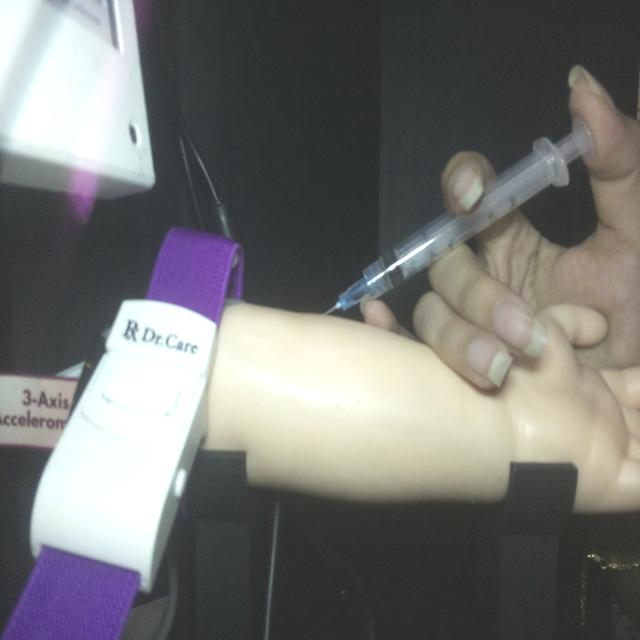26 degrees: (322, 112, 595, 318)
